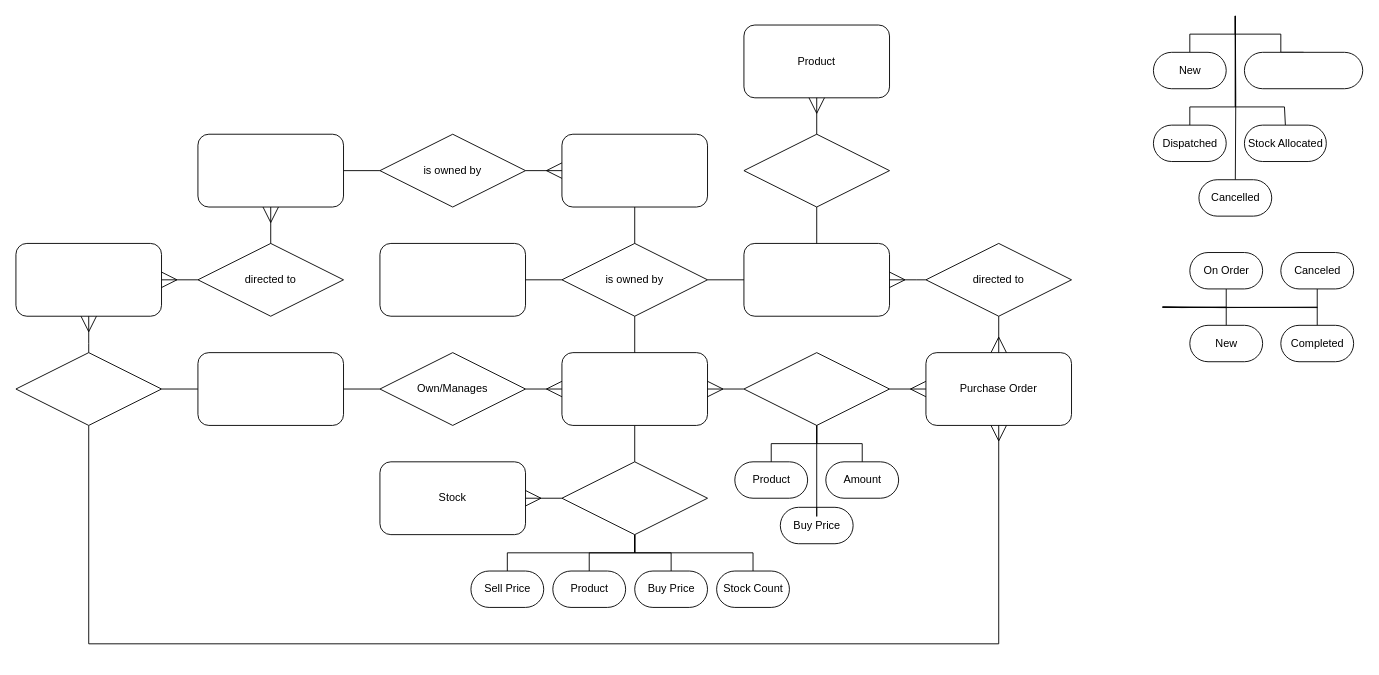
Image size: 1379x675. Some labels were removed from this diagram. Each missing label, with the box of its shape:
Address: (379, 243, 526, 316)
can make: (743, 352, 890, 425)
Customer: (197, 133, 344, 207)
Daffodil: (197, 352, 344, 425)
holds stock: (561, 461, 708, 535)
is sold by: (743, 133, 890, 207)
Office: (561, 133, 708, 207)
Partial Stock Allocated: (1244, 51, 1363, 89)
Sales Order: (15, 243, 162, 316)
Supplier: (743, 243, 890, 316)
Tracking: (15, 352, 162, 425)
Warehouse: (561, 352, 708, 425)
